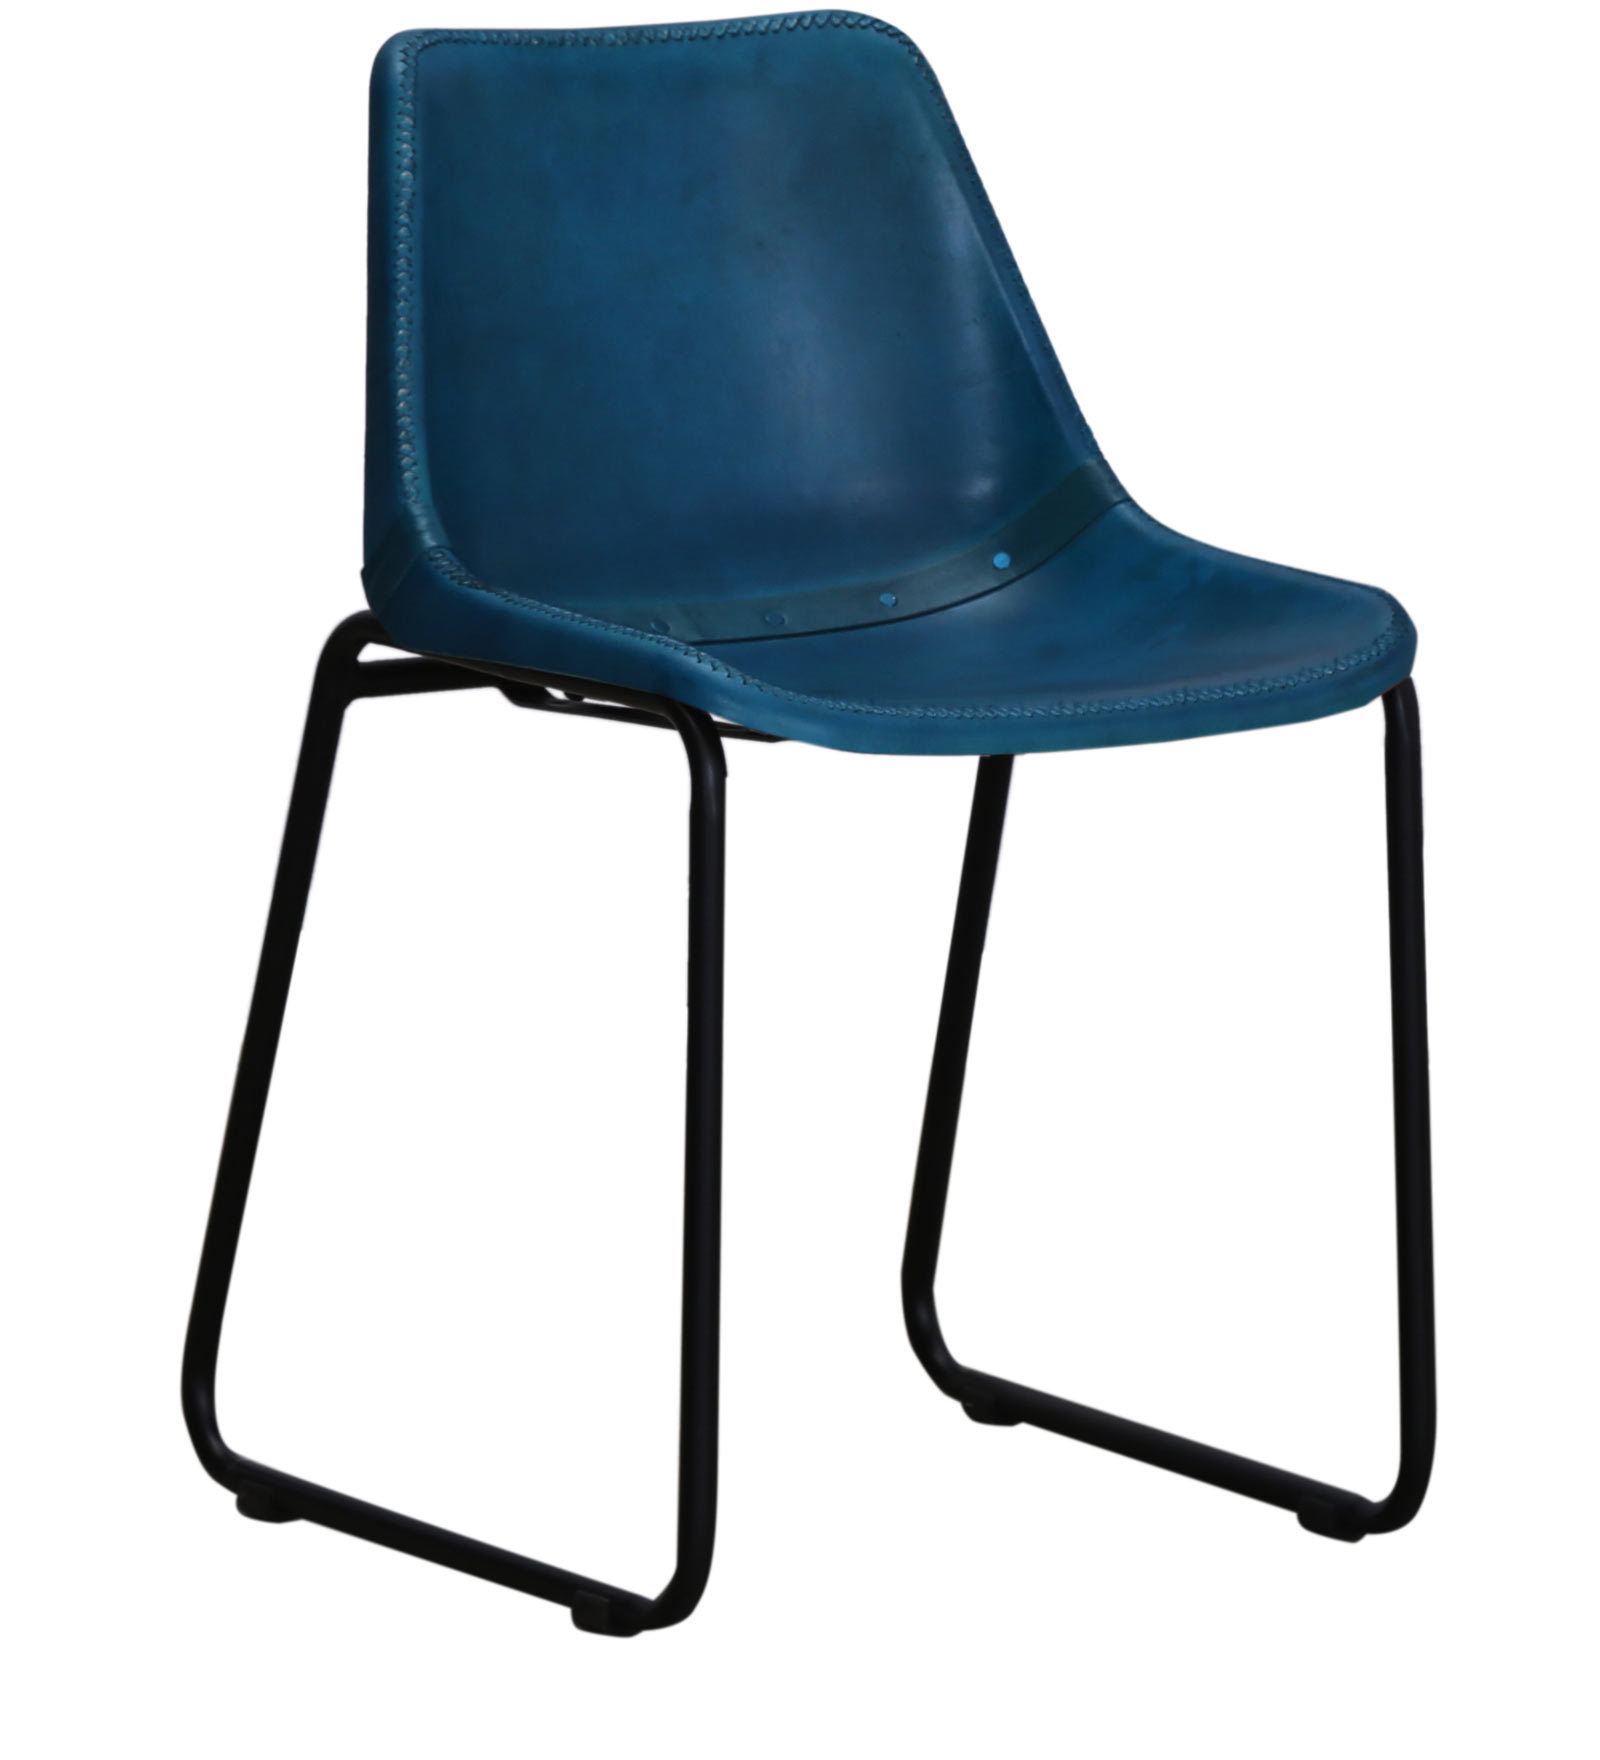Medina Ink Blue Color Leather Accent Chair by Bohemiana: (175, 8, 1451, 1643)
